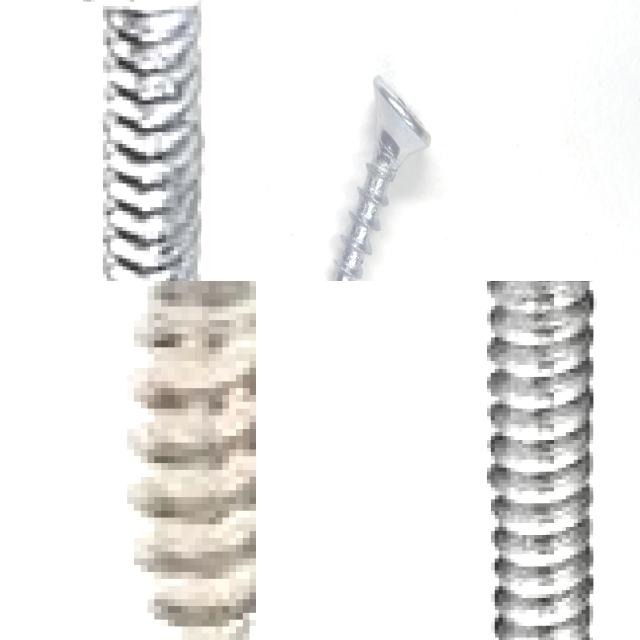Screw: (120, 281, 256, 640), (73, 0, 202, 281), (495, 281, 593, 640), (334, 75, 431, 281)
